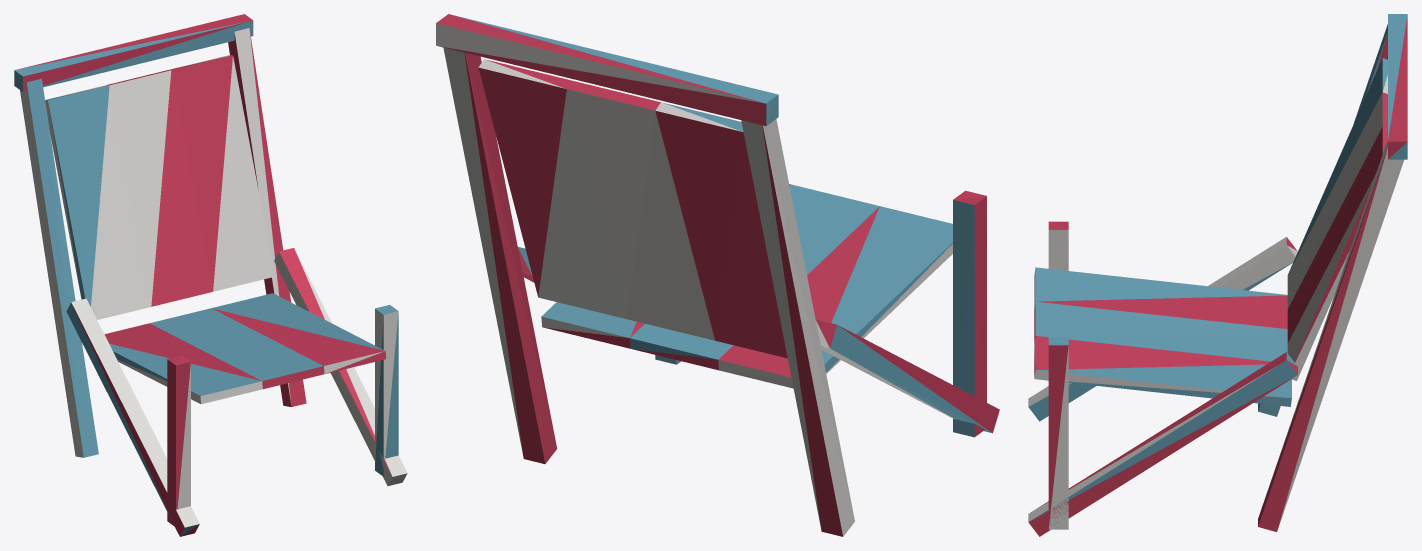
The model's file is beach-chair-00.glb.
The picture shows the model from 3 angles, left to right: view 1: azimuth 30°, elevation 25°; view 2: azimuth 150°, elevation 25°; view 3: azimuth 270°, elevation 25°; orthographic projection. The views are drawn at different scales.
Parts seen in each view (by area): view 1: beach_chair_00; view 2: beach_chair_00; view 3: beach_chair_00.
Boxes of the visible parts, <box> form: beach_chair_00: <box>14,14,407,536</box>; beach_chair_00: <box>436,14,999,536</box>; beach_chair_00: <box>1028,14,1407,536</box>.
Size of the model in its own units: 0.612 by 0.8871 by 0.7677.
